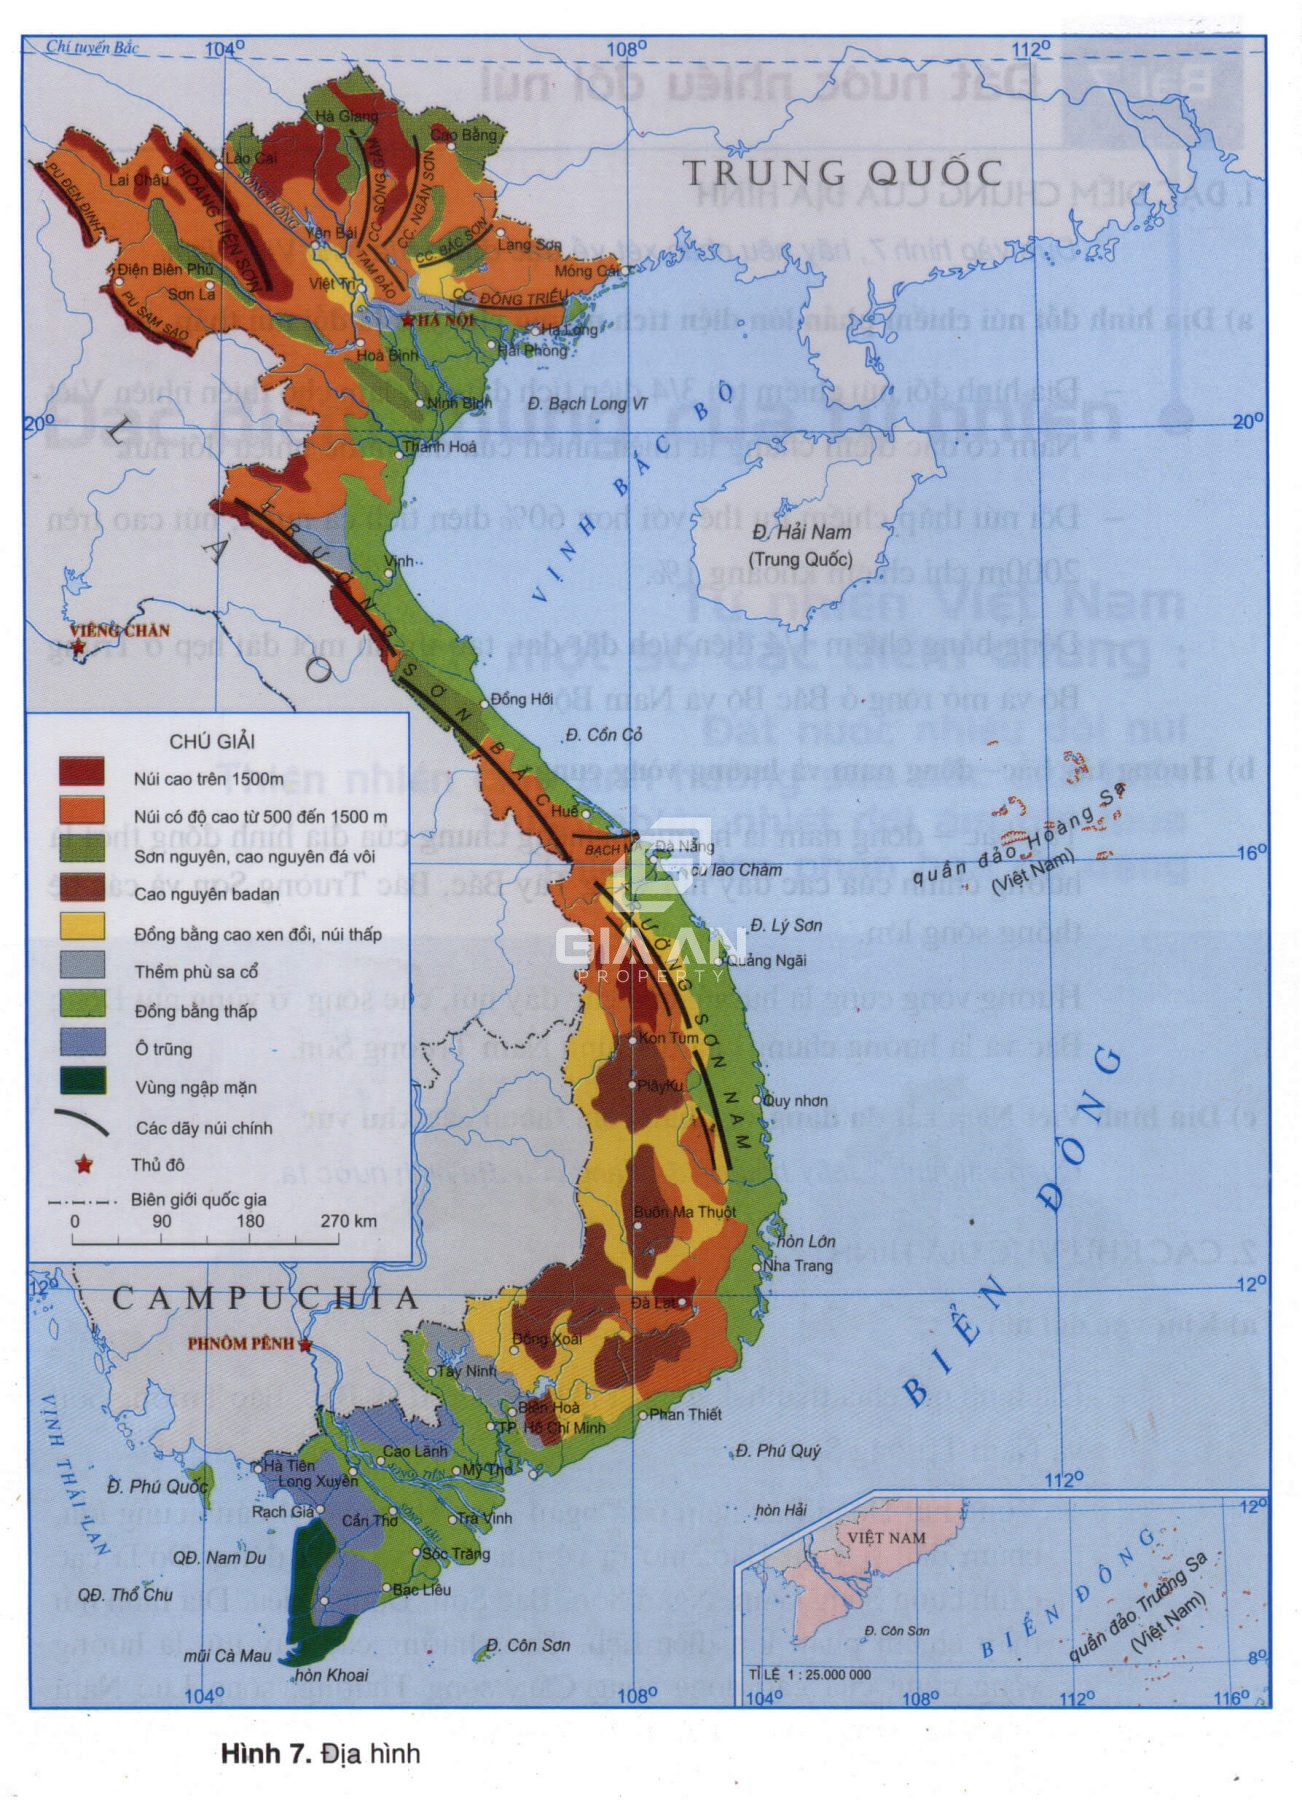Island: (900, 734, 1153, 920), (1046, 1548, 1261, 1699)
